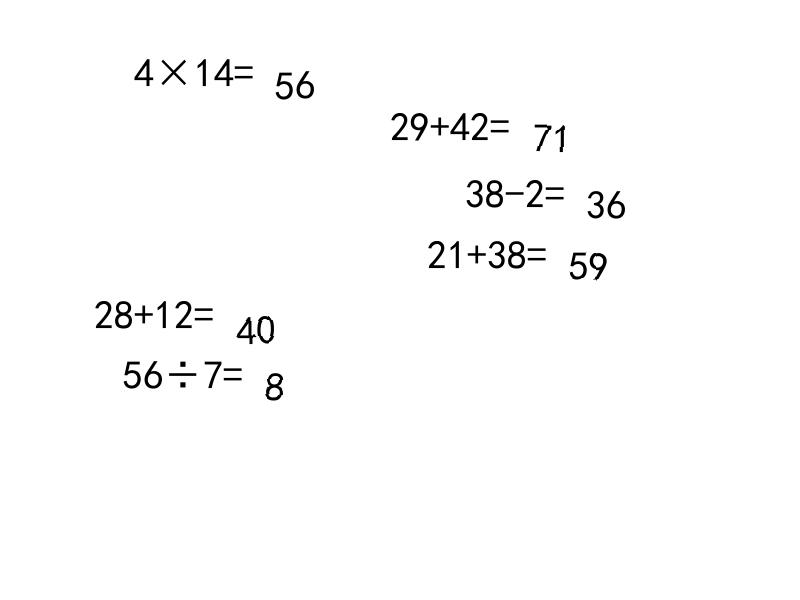+: (430, 106, 450, 135), (467, 234, 487, 263), (134, 294, 154, 323)
-: (505, 173, 525, 202)
0: (244, 294, 264, 323)
1: (540, 106, 560, 135), (447, 234, 467, 263), (154, 294, 174, 323), (194, 52, 214, 80)
2: (390, 106, 410, 135), (470, 106, 490, 135), (525, 173, 545, 202), (427, 234, 447, 263), (94, 294, 114, 323), (174, 294, 194, 323)
3: (465, 173, 485, 202), (575, 173, 595, 202), (487, 234, 507, 263)
4: (450, 106, 470, 135), (224, 294, 244, 323), (134, 52, 154, 80), (214, 52, 234, 80)
5: (557, 234, 577, 263), (264, 52, 284, 80), (123, 354, 143, 382)
6: (595, 173, 615, 202), (284, 52, 304, 80), (143, 354, 163, 382)
7: (520, 106, 540, 135), (203, 354, 223, 382)
8: (485, 173, 505, 202), (507, 234, 527, 263), (114, 294, 134, 323), (253, 354, 273, 382)
9: (410, 106, 430, 135), (577, 234, 597, 263)
=: (490, 106, 510, 135), (545, 173, 565, 202), (527, 234, 547, 263), (194, 294, 214, 323), (234, 52, 254, 80), (223, 354, 243, 382)
×: (154, 52, 194, 80)
÷: (163, 354, 203, 382)
